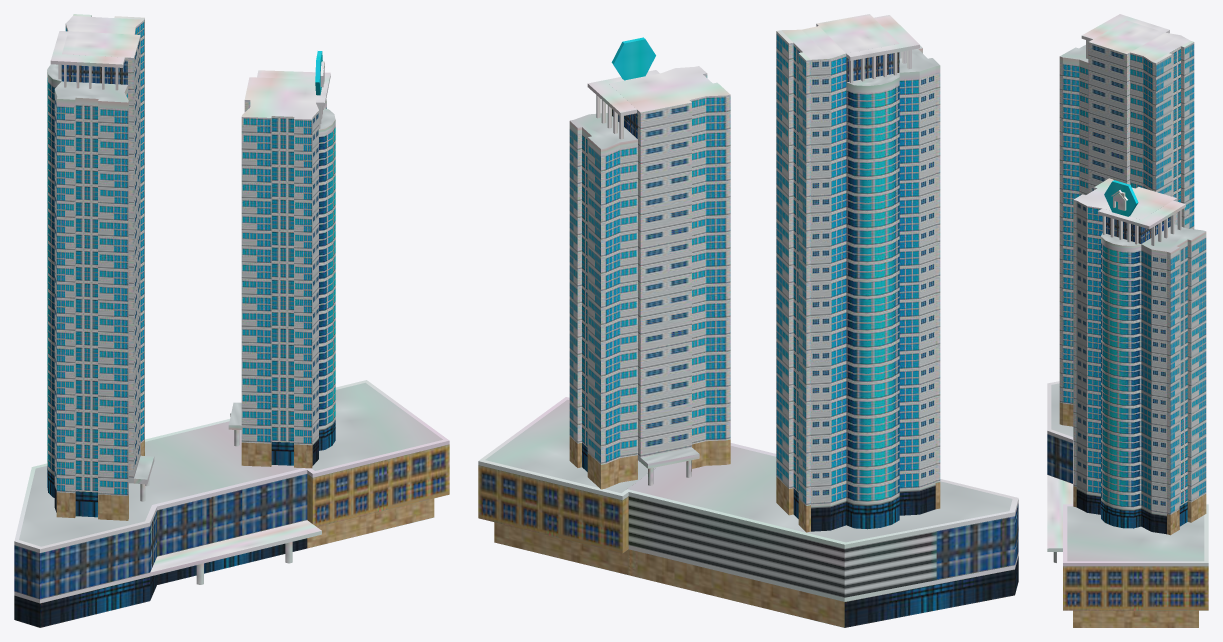
3 renders of one model, left to right at view 1: azimuth 30°, elevation 25°; view 2: azimuth 150°, elevation 25°; view 3: azimuth 270°, elevation 25°, orthographic. The views are drawn at different scales.
Parts seen in each view (by area): view 1: 62e9f68831332f97a73f09b7; view 2: 62e9f68831332f97a73f09b7; view 3: 62e9f68831332f97a73f09b7.
Boxes of the visible parts, <box> form: 62e9f68831332f97a73f09b7: <box>14,14,449,627</box>; 62e9f68831332f97a73f09b7: <box>478,14,1018,627</box>; 62e9f68831332f97a73f09b7: <box>1047,14,1208,627</box>.
Bounding box in the file's own units: 102 × 120 × 37.98.
Materials: 1 (1 with a texture image).
